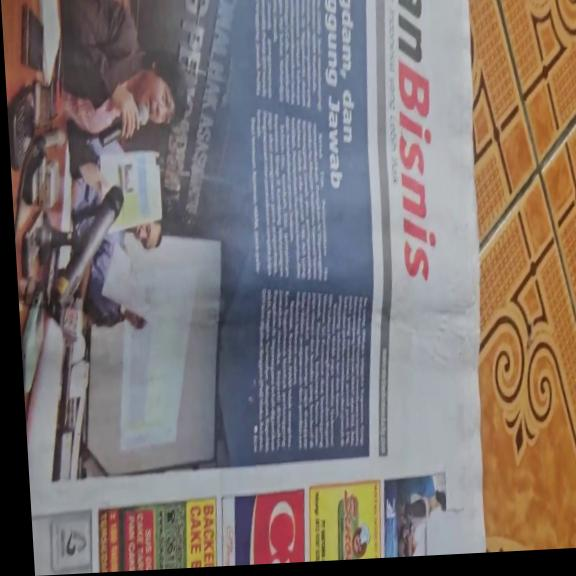Kertas: (5, 0, 481, 567)
